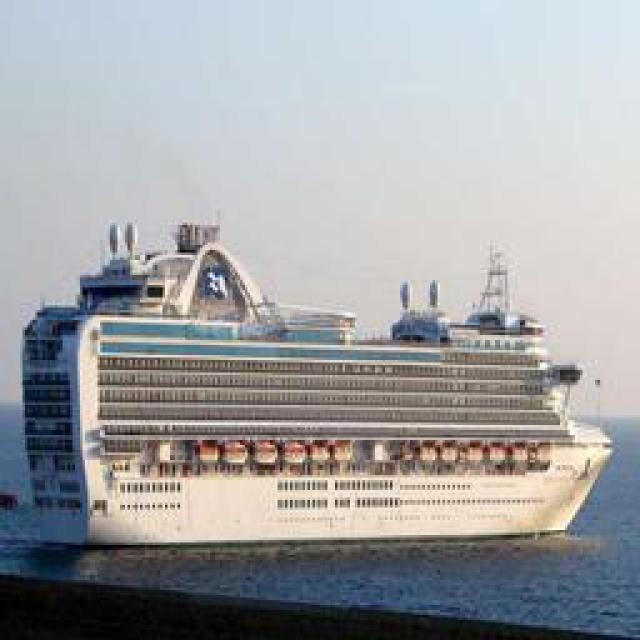Ship: (33, 229, 618, 554)
